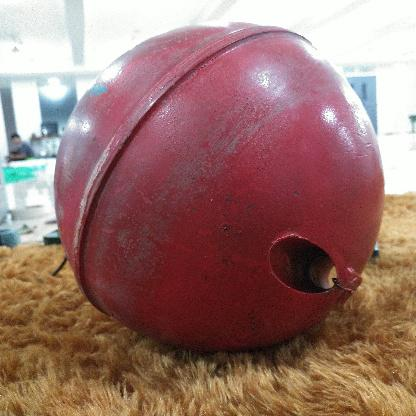red_buoy: (56, 21, 386, 354)
